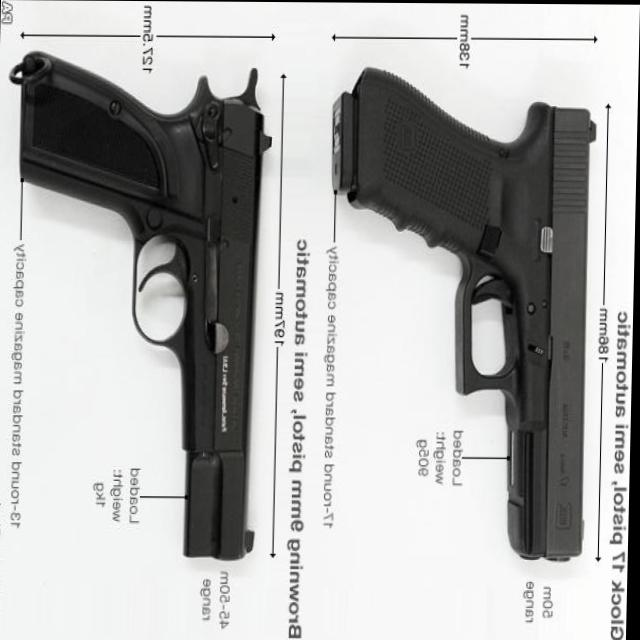handgun: (6, 29, 599, 572)
